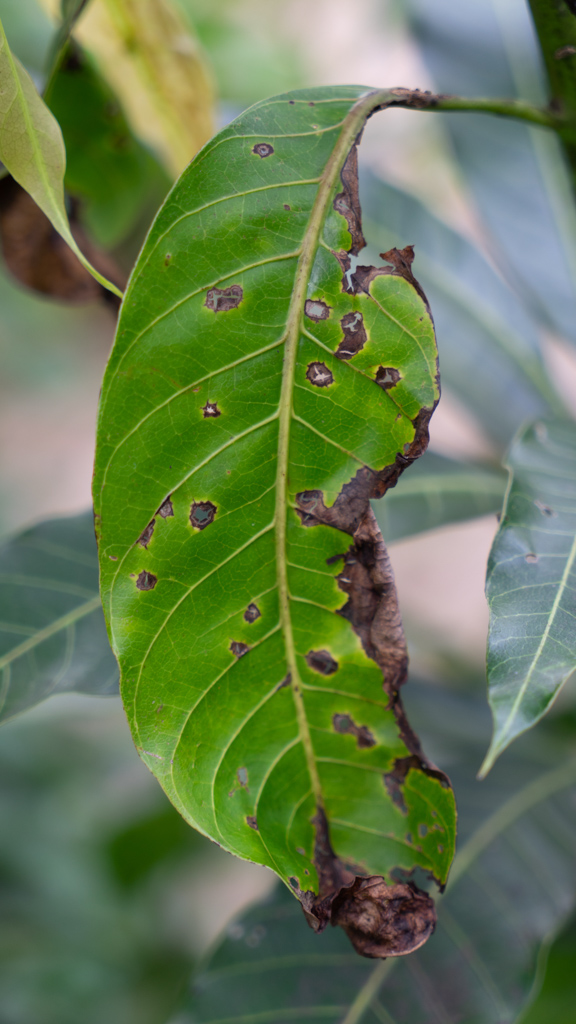Alternaria brassicicola: (117, 133, 467, 966)
